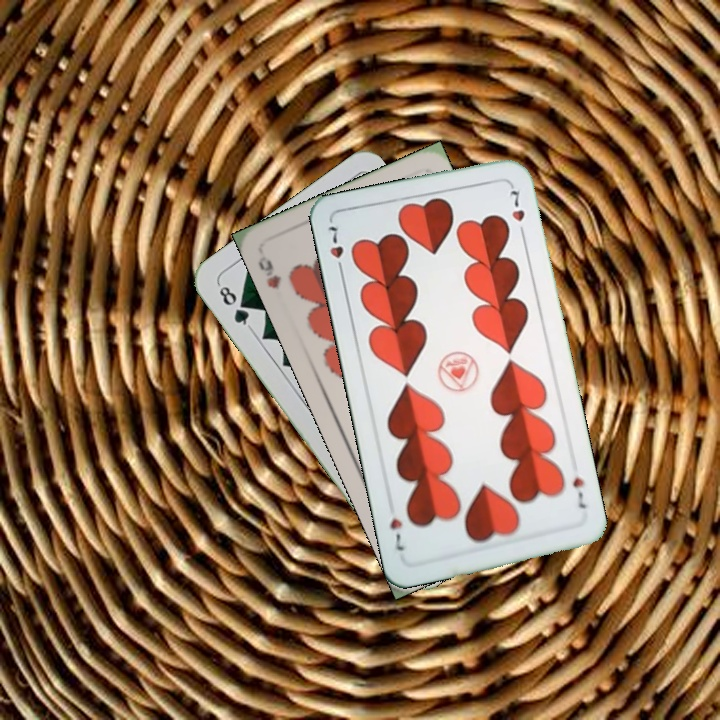G8: (214, 280, 254, 331)
H7: (324, 222, 347, 278), (568, 473, 589, 511)
H9: (254, 251, 284, 292)
